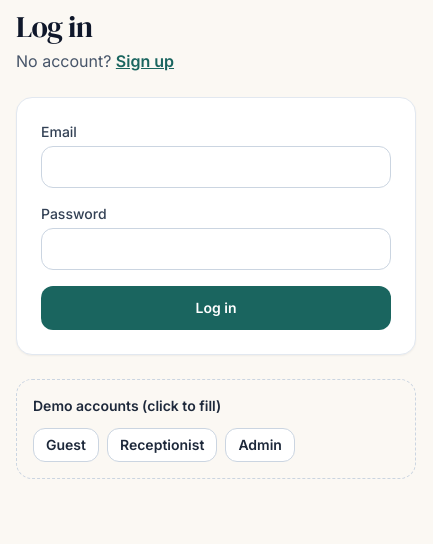
LoginPage form validation › shows field errors and does not submit when the form is empty
This screenshot has width=433, height=544.
Click the button "Log in".
click(216, 308)  # box [41,286,391,330]
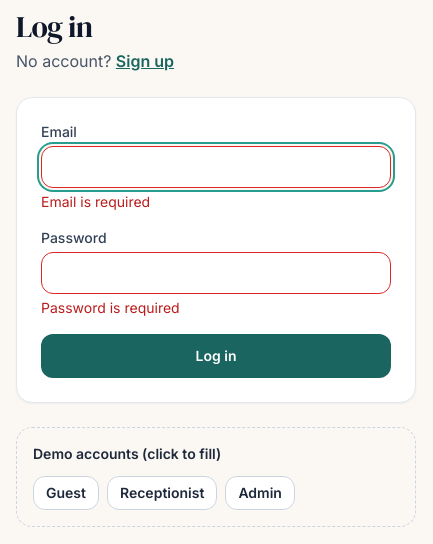
Now the text "Email is required" is shown, box [41,193,150,210]
Now the text "Password is required" is shown, box [41,299,180,316]
